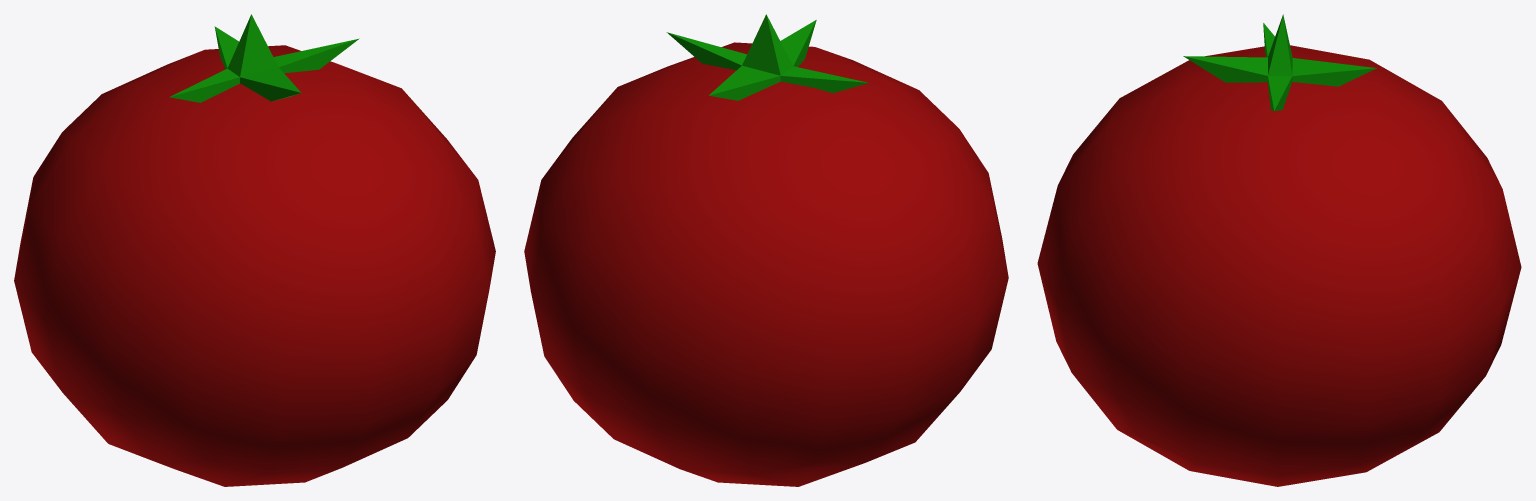
Rendered from TOMATE_PRP.fbx.
3 views of the same model, side by side, from view 1: azimuth 30°, elevation 25°; view 2: azimuth 150°, elevation 25°; view 3: azimuth 270°, elevation 25° (orthographic).
Parts seen in each view (by area): view 1: TOMATE; view 2: TOMATE; view 3: TOMATE.
Boxes of the visible parts, bbox=[...] form: TOMATE: bbox=[14, 14, 495, 486]; TOMATE: bbox=[524, 14, 1008, 486]; TOMATE: bbox=[1037, 14, 1521, 486].
Size of the model in its own units: 11.44 by 11.67 by 11.44.
